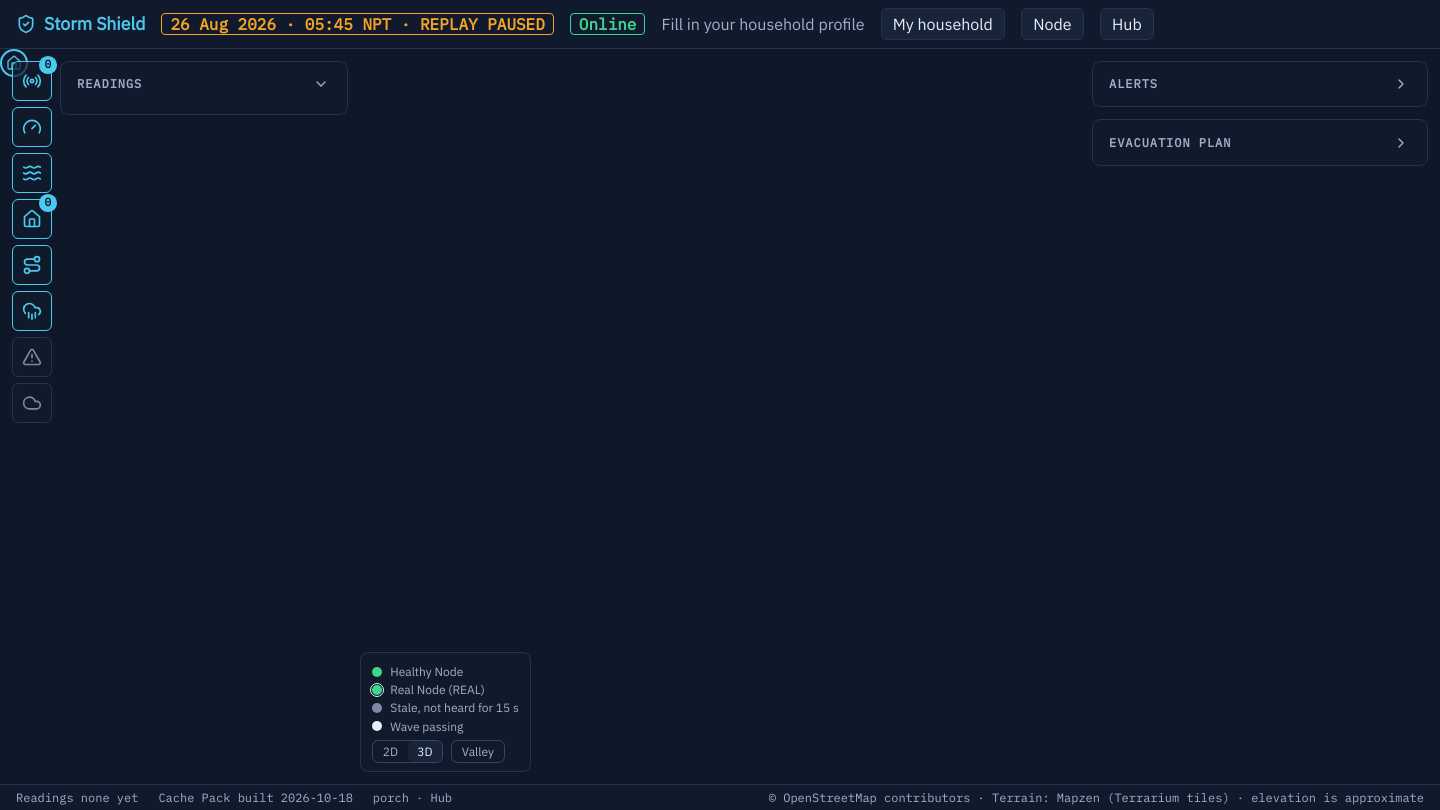
Test: Weather layers on the map › keeps the replay layers working when the Node has no forecast
This screenshot has width=1440, height=810.
Click the button named "Weather": coordinates (32, 403) [12, 383, 52, 423]
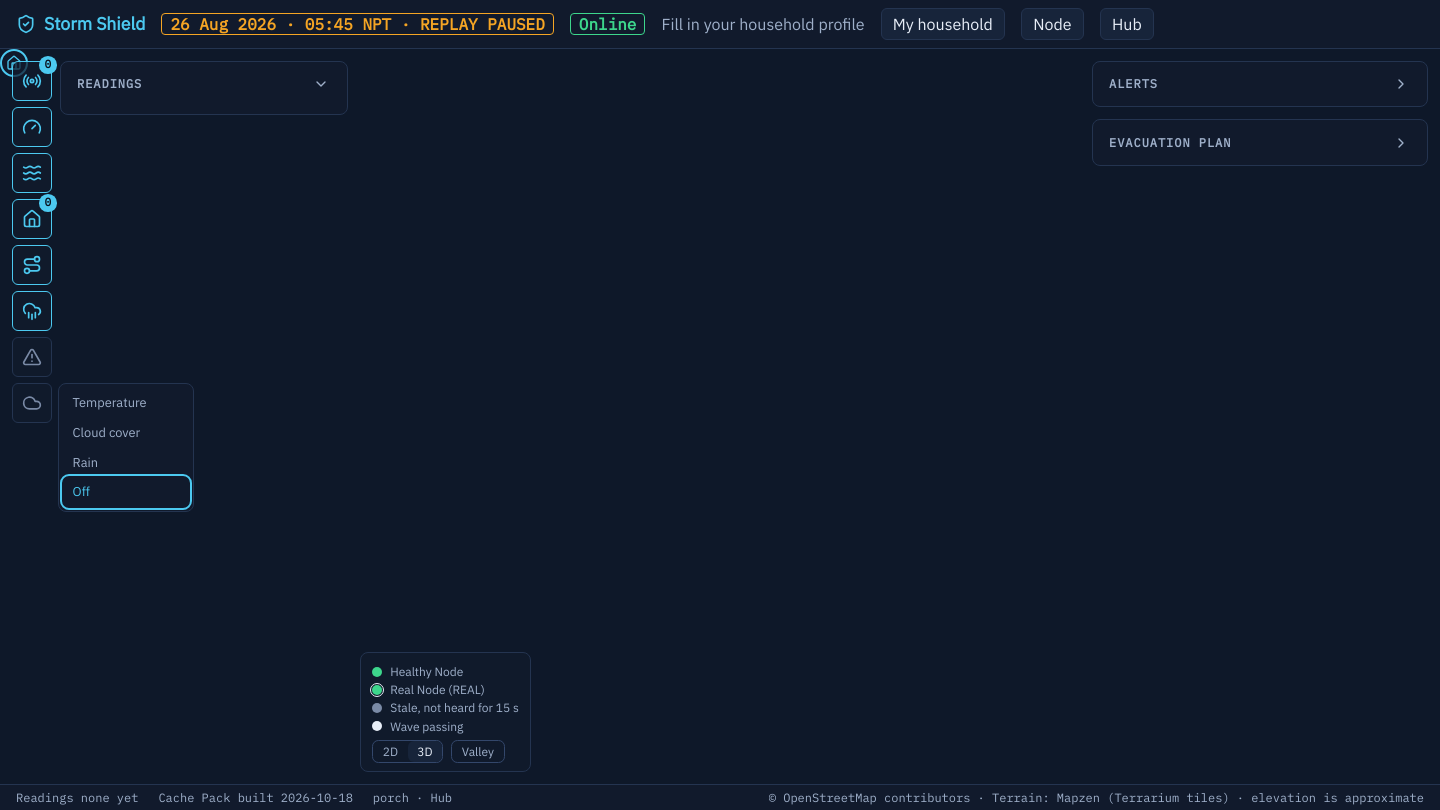
Click the radio button labelled "Temperature": coordinates (126, 402) [63, 388, 189, 417]
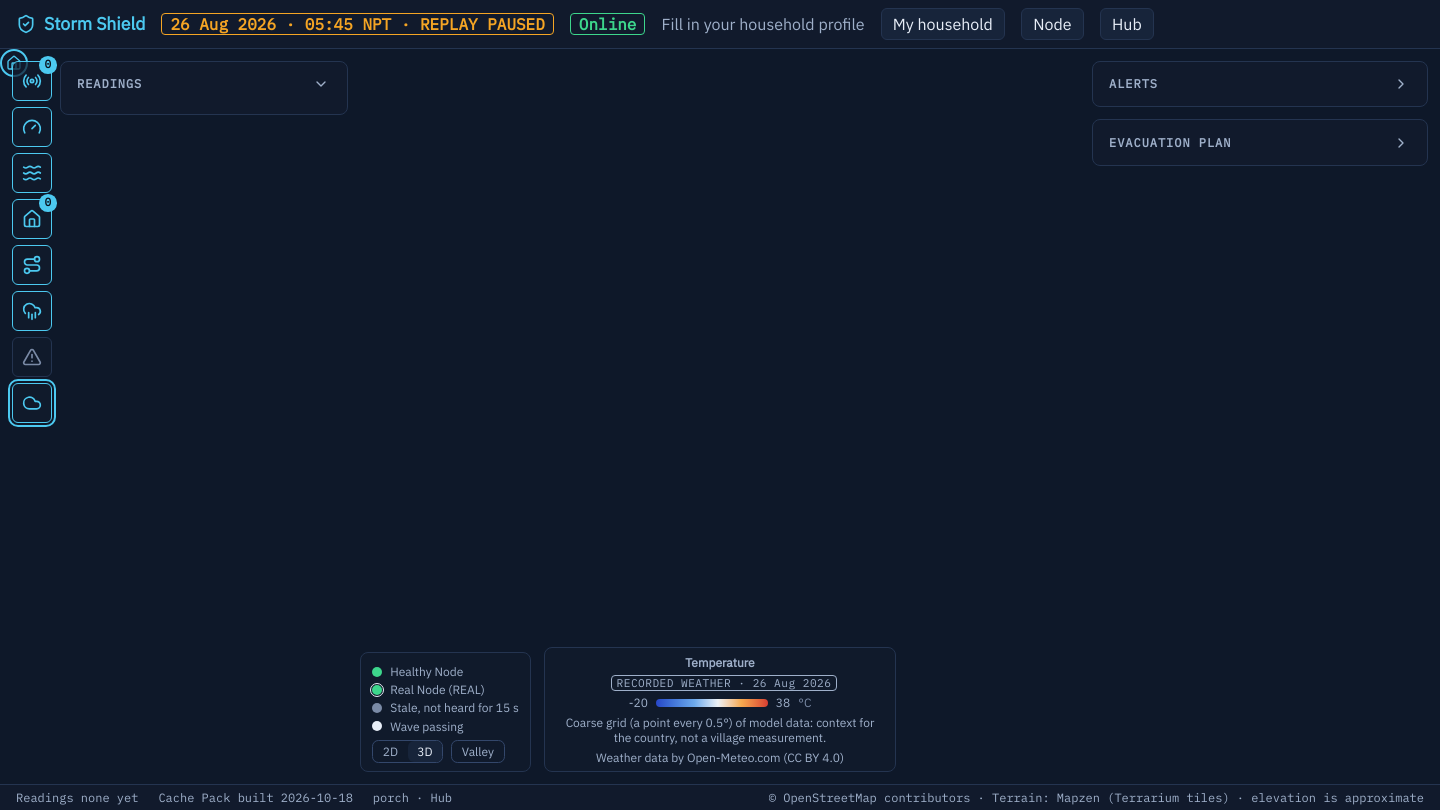
Now the text "RECORDED WEATHER · 26 Aug 2026" is shown, box [611, 675, 837, 691]
